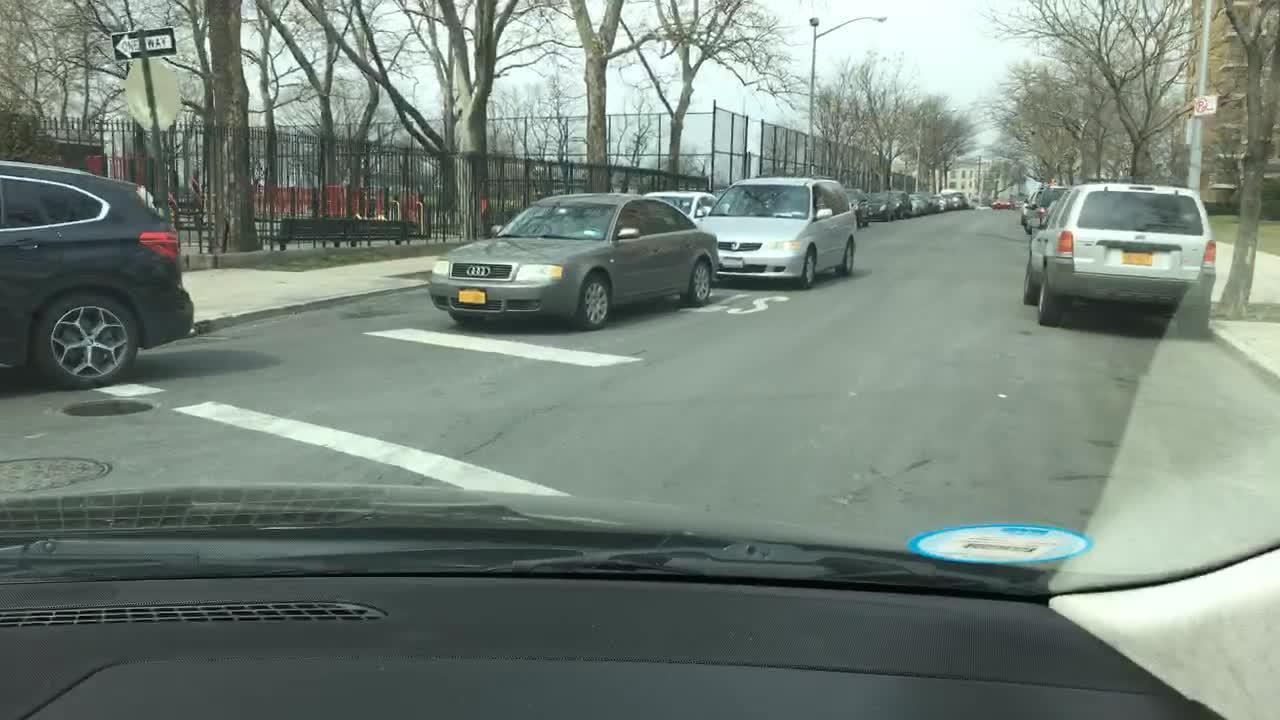Audi: (460, 262, 498, 282)
